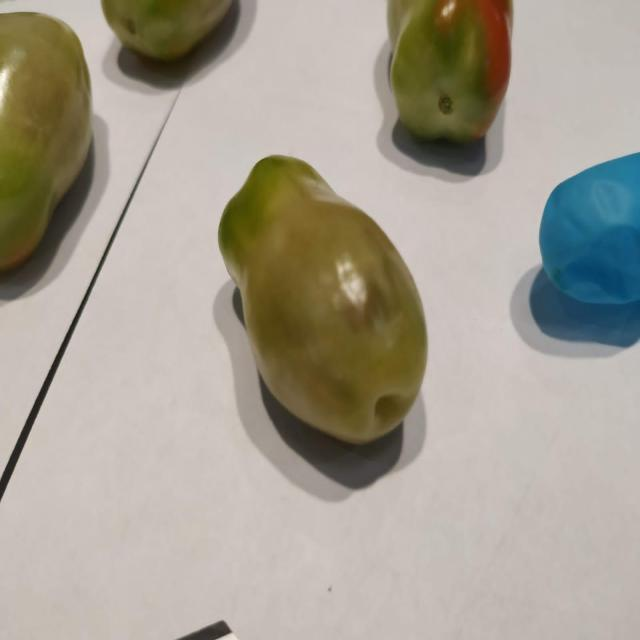T_F_R: (219, 155, 428, 444), (1, 13, 92, 272), (389, 1, 514, 143)
